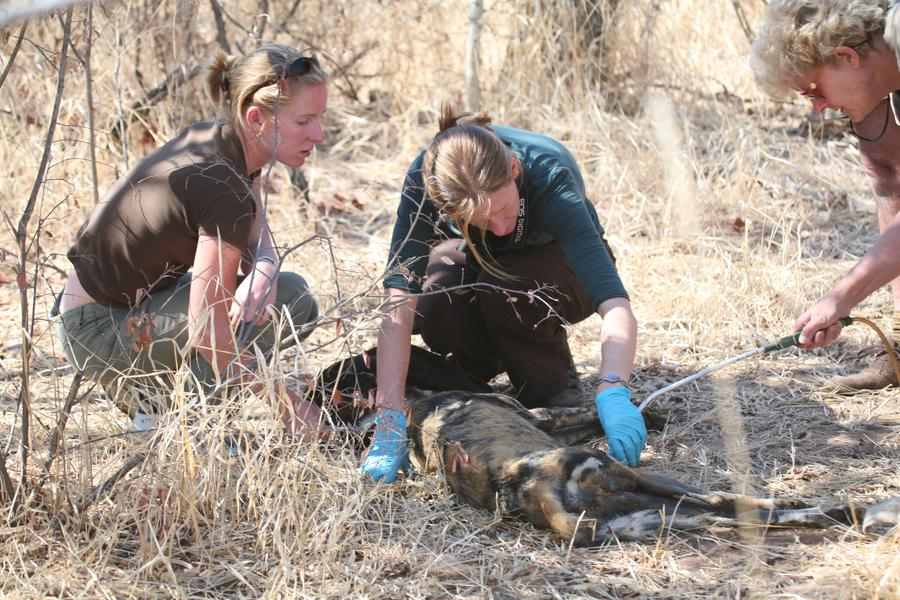wilddog: (418, 385, 619, 546)
